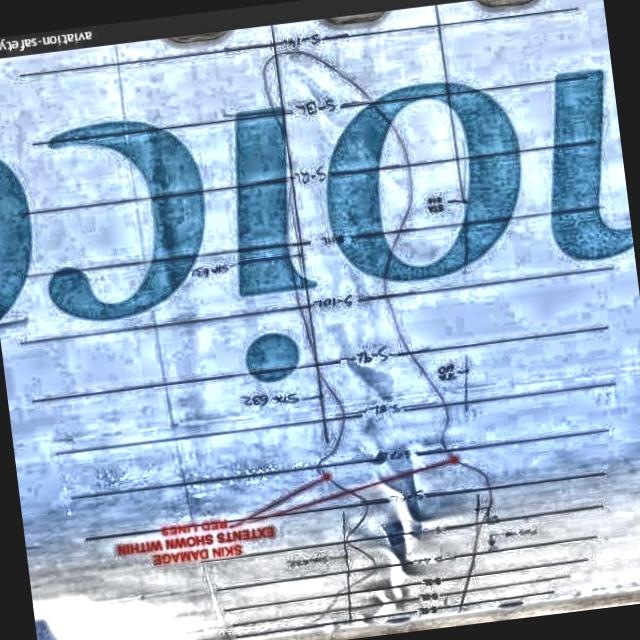dent: (333, 442, 485, 630), (324, 314, 399, 408)
